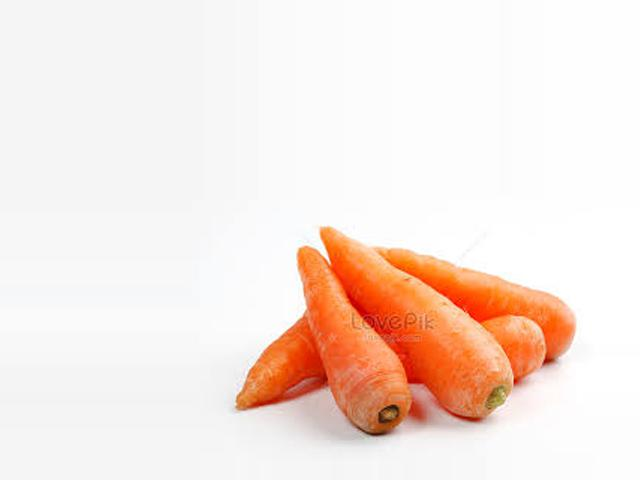carrot: (290, 249, 413, 436)
